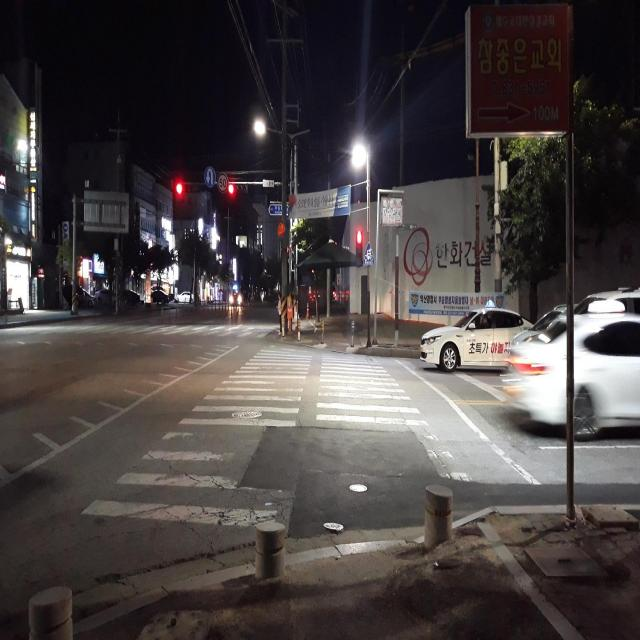빨간불: (356, 232, 364, 265)
횡단보도: (78, 344, 474, 530)
